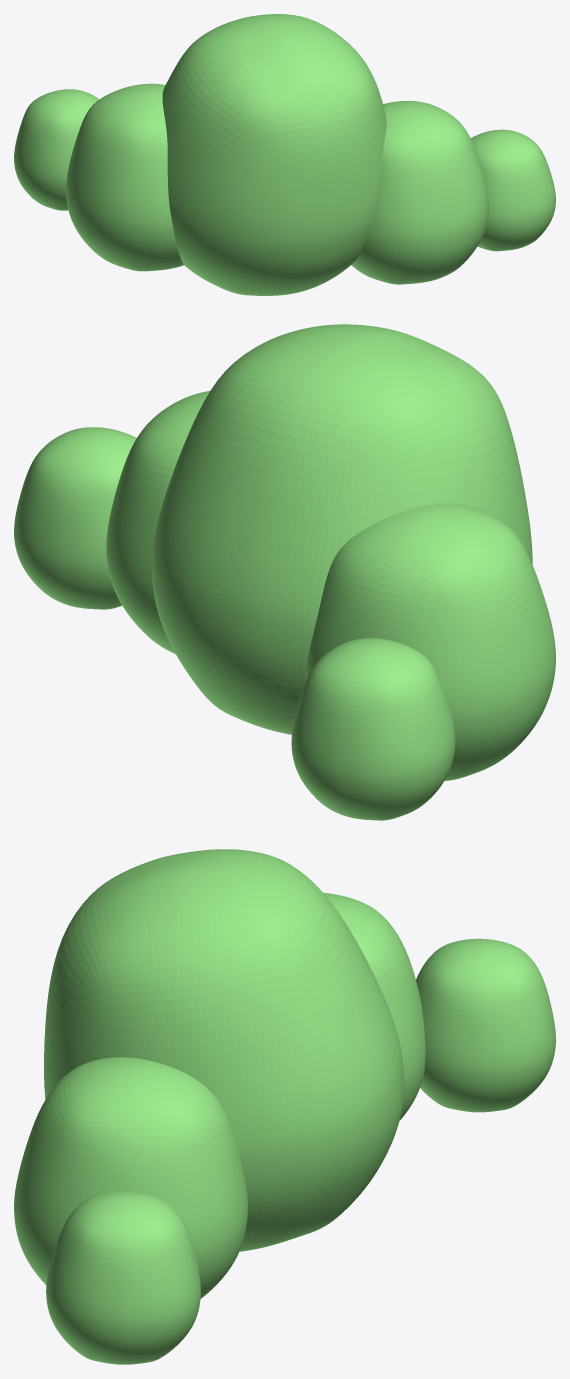
File: greenbush.fbx
3 views of the same model, one above another, from view 1: azimuth 30°, elevation 25°; view 2: azimuth 150°, elevation 25°; view 3: azimuth 270°, elevation 25° (orthographic). The views are drawn at different scales.
Visible parts, largest first — view 1: Roundcube.050, Roundcube.052, Roundcube.051, Roundcube.054, Roundcube.053; view 2: Roundcube.050, Roundcube.051, Roundcube.053, Roundcube.054, Roundcube.052; view 3: Roundcube.050, Roundcube.052, Roundcube.054, Roundcube.053, Roundcube.051.
Boxes of the visible parts, x1,y1,x2,y2 form: Roundcube.050: [162, 14, 386, 295]; Roundcube.052: [351, 100, 489, 284]; Roundcube.051: [66, 83, 183, 271]; Roundcube.054: [471, 129, 555, 251]; Roundcube.053: [14, 89, 99, 210]; Roundcube.050: [152, 324, 532, 734]; Roundcube.051: [306, 503, 555, 780]; Roundcube.053: [291, 638, 455, 820]; Roundcube.054: [14, 427, 136, 609]; Roundcube.052: [106, 391, 209, 654]; Roundcube.050: [44, 849, 404, 1251]; Roundcube.052: [14, 1057, 247, 1298]; Roundcube.054: [46, 1191, 200, 1364]; Roundcube.053: [416, 938, 555, 1112]; Roundcube.051: [323, 892, 425, 1120].
Size of the model in its own units: 142 by 83.49 by 115.
